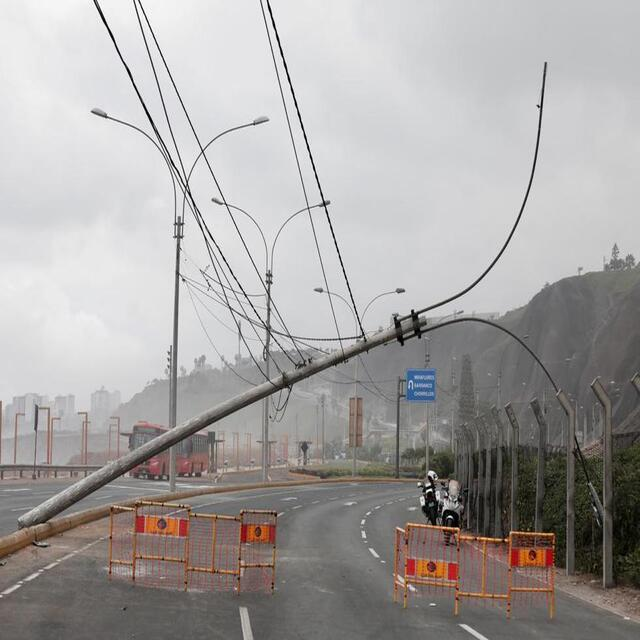Inclined Pole: (10, 58, 623, 544)
